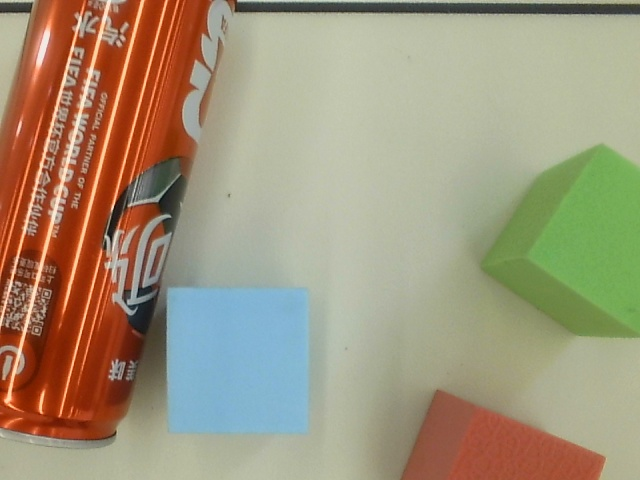bluecube: (166, 284, 315, 437)
cola: (1, 1, 236, 444)
greencube: (478, 138, 640, 351)
redcube: (396, 387, 612, 480)
